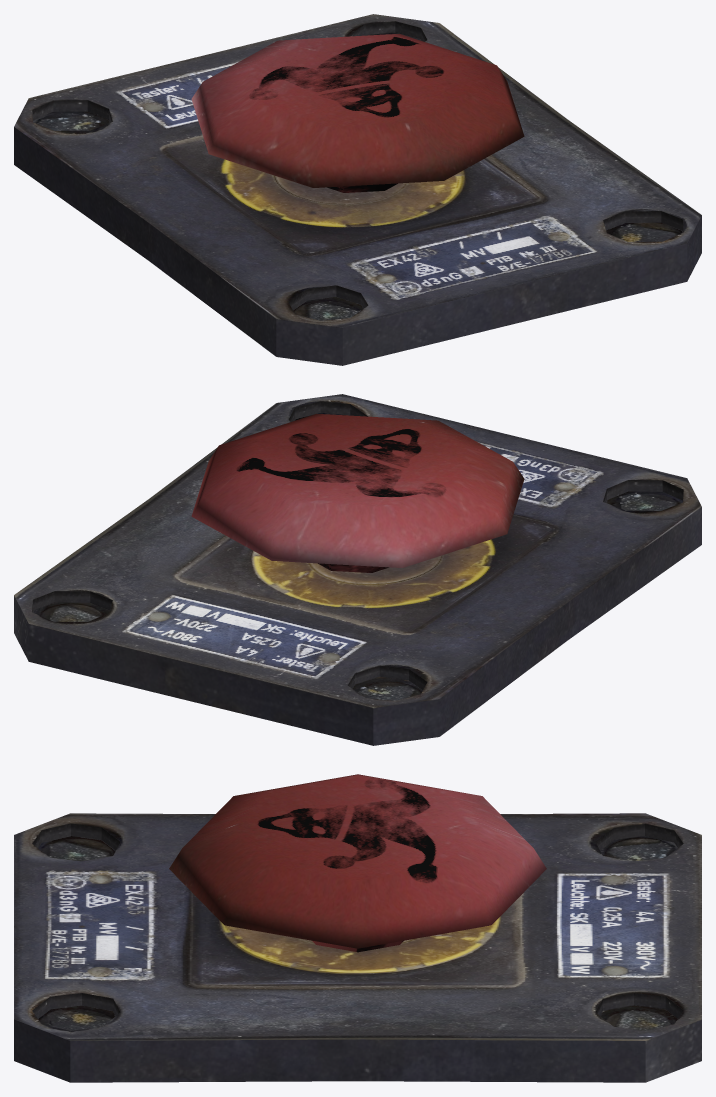
The model's file is Bluff-button.glb.
3 renders of one model, top to bottom at view 1: azimuth 30°, elevation 25°; view 2: azimuth 150°, elevation 25°; view 3: azimuth 270°, elevation 25°, orthographic. The views are drawn at different scales.
Parts seen in each view (by area): view 1: Bluff-Base, Bluff-Botton; view 2: Bluff-Base, Bluff-Botton; view 3: Bluff-Base, Bluff-Botton.
Part boxes in pixels (x1,y1,x2,y2): Bluff-Base: (14,14,701,365); Bluff-Botton: (191,33,524,192); Bluff-Base: (14,394,701,745); Bluff-Botton: (191,413,524,572); Bluff-Base: (14,813,701,1082); Bluff-Botton: (169,774,546,952).
Size of the model in its own units: 2.6 by 0.7478 by 3.32.
1 material, 1 textured.
